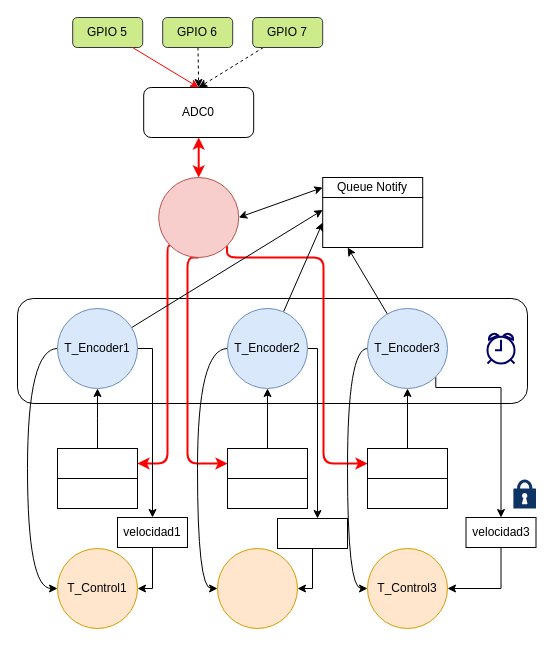
Some shapes in this 554 by 646 pixel diagram are drawn without their labels. The centre of each missing label's shape, as x and y in pixels:
Gate Keeper: (x=198, y=217)
Queue Encoder1: (x=97, y=463)
Queue Encoder2: (x=267, y=463)
Queue Encoder3: (x=407, y=463)
T_Control2: (x=257, y=588)
velocidad2: (x=312, y=533)
